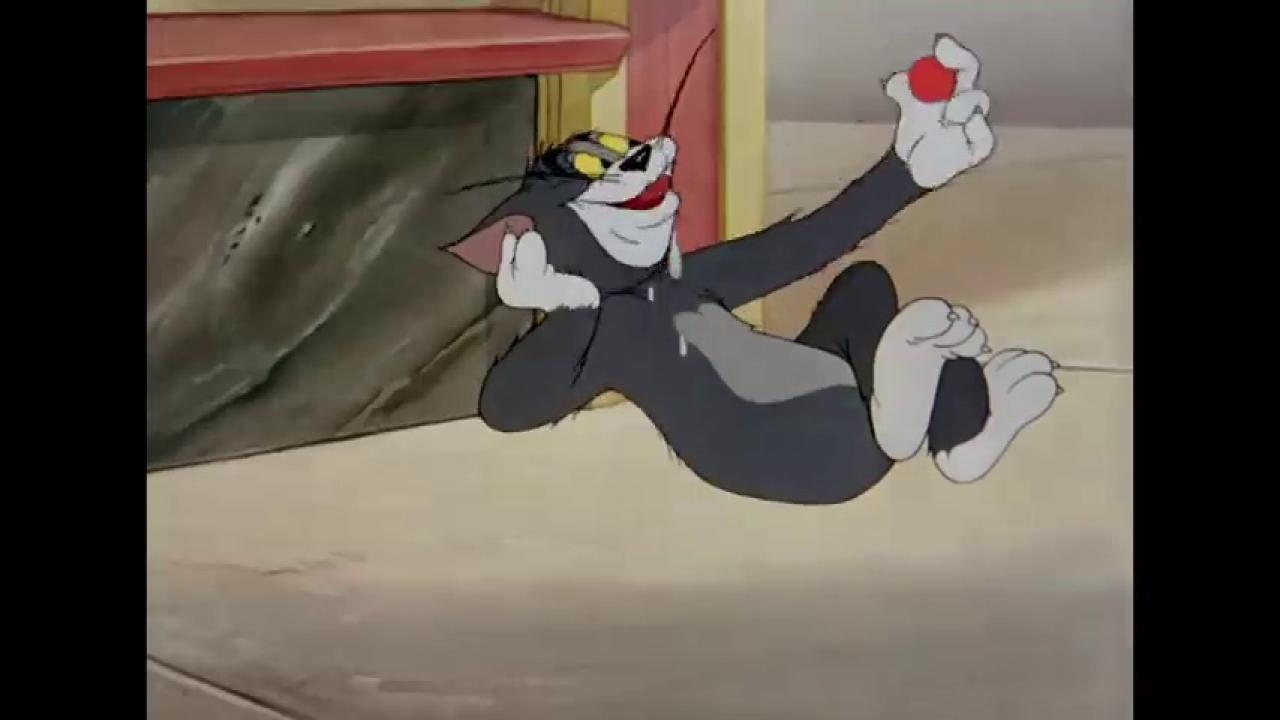Tom: (435, 30, 1067, 504)
